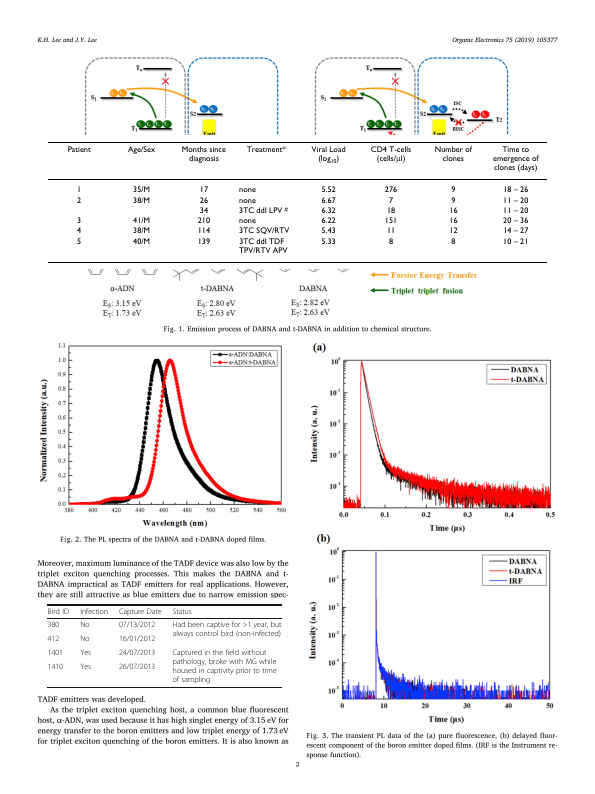borderless: (47, 140, 547, 262), (47, 603, 282, 687)
cell: (171, 648, 277, 685), (171, 620, 282, 639), (491, 144, 539, 173), (238, 236, 288, 255), (369, 143, 412, 165), (180, 144, 226, 163), (310, 144, 346, 165), (433, 144, 472, 163), (238, 226, 290, 236), (238, 205, 288, 215), (245, 144, 286, 154), (118, 607, 162, 616), (118, 620, 156, 630), (118, 634, 156, 644), (118, 648, 156, 658), (118, 662, 156, 672), (126, 144, 156, 154), (502, 185, 529, 195), (502, 195, 529, 205), (502, 216, 529, 226), (502, 226, 529, 236), (502, 236, 529, 246), (79, 607, 109, 616), (66, 144, 91, 154), (502, 206, 529, 215), (47, 607, 70, 616), (171, 607, 193, 616), (132, 185, 151, 195), (132, 195, 151, 205), (132, 216, 151, 226), (132, 226, 151, 236), (132, 236, 151, 246), (238, 185, 256, 195), (238, 195, 256, 205), (238, 216, 256, 226), (47, 648, 64, 658), (47, 662, 64, 672), (320, 185, 336, 195), (320, 195, 336, 205), (320, 216, 336, 226), (320, 226, 336, 236), (320, 236, 336, 246), (383, 185, 398, 195), (196, 216, 211, 226), (383, 216, 398, 226), (196, 226, 211, 236), (196, 236, 211, 246), (320, 206, 336, 215), (47, 620, 60, 630), (47, 634, 60, 644), (79, 648, 92, 658), (79, 662, 92, 672), (198, 185, 209, 195), (198, 195, 209, 205), (385, 226, 396, 236), (79, 620, 90, 630), (79, 634, 90, 644), (448, 216, 458, 226), (448, 226, 458, 236), (198, 206, 209, 215), (385, 206, 396, 215), (448, 206, 458, 215), (387, 195, 394, 205), (387, 236, 394, 246), (76, 185, 82, 195), (450, 185, 456, 195), (76, 195, 82, 205), (450, 195, 456, 205), (76, 216, 82, 226), (76, 226, 82, 236), (76, 236, 82, 246), (450, 236, 456, 246)
